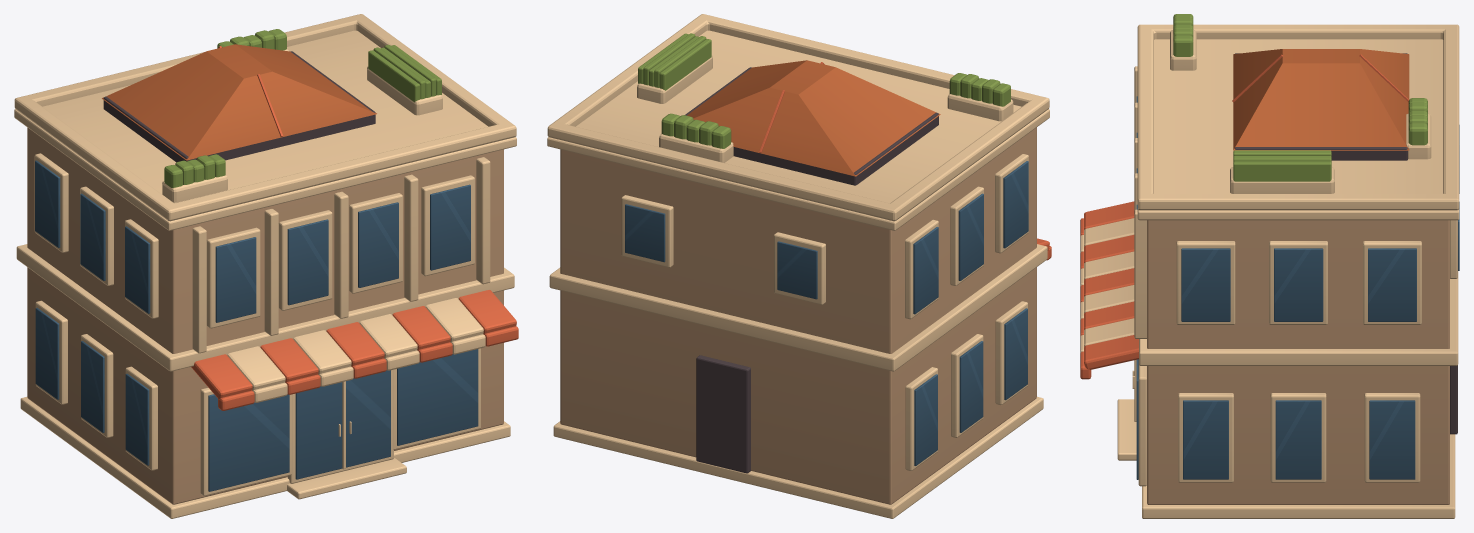
Rendered from 01D-market-blender.glb.
The picture shows the model from 3 angles, left to right: view 1: azimuth 30°, elevation 25°; view 2: azimuth 150°, elevation 25°; view 3: azimuth 270°, elevation 25°; orthographic projection. The views are drawn at different scales.
Parts seen in each view (by area): view 1: 01D Copper Rooftops; view 2: 01D Copper Rooftops; view 3: 01D Copper Rooftops.
Boxes of the visible parts, x1,y1,x2,y2 form: 01D Copper Rooftops: (14,14,518,518); 01D Copper Rooftops: (547,14,1051,518); 01D Copper Rooftops: (1080,14,1459,518).
Bounding box in the file's own units: 6.44 × 6.33 × 5.86.
Materials: 7 (7 with a texture image).
